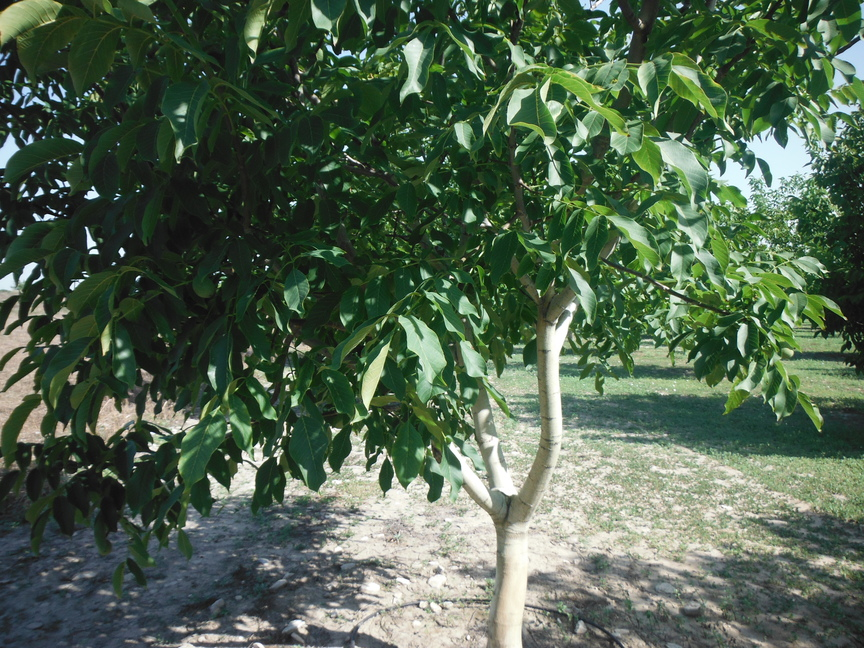walnut: (188, 268, 223, 301), (772, 338, 797, 366)
